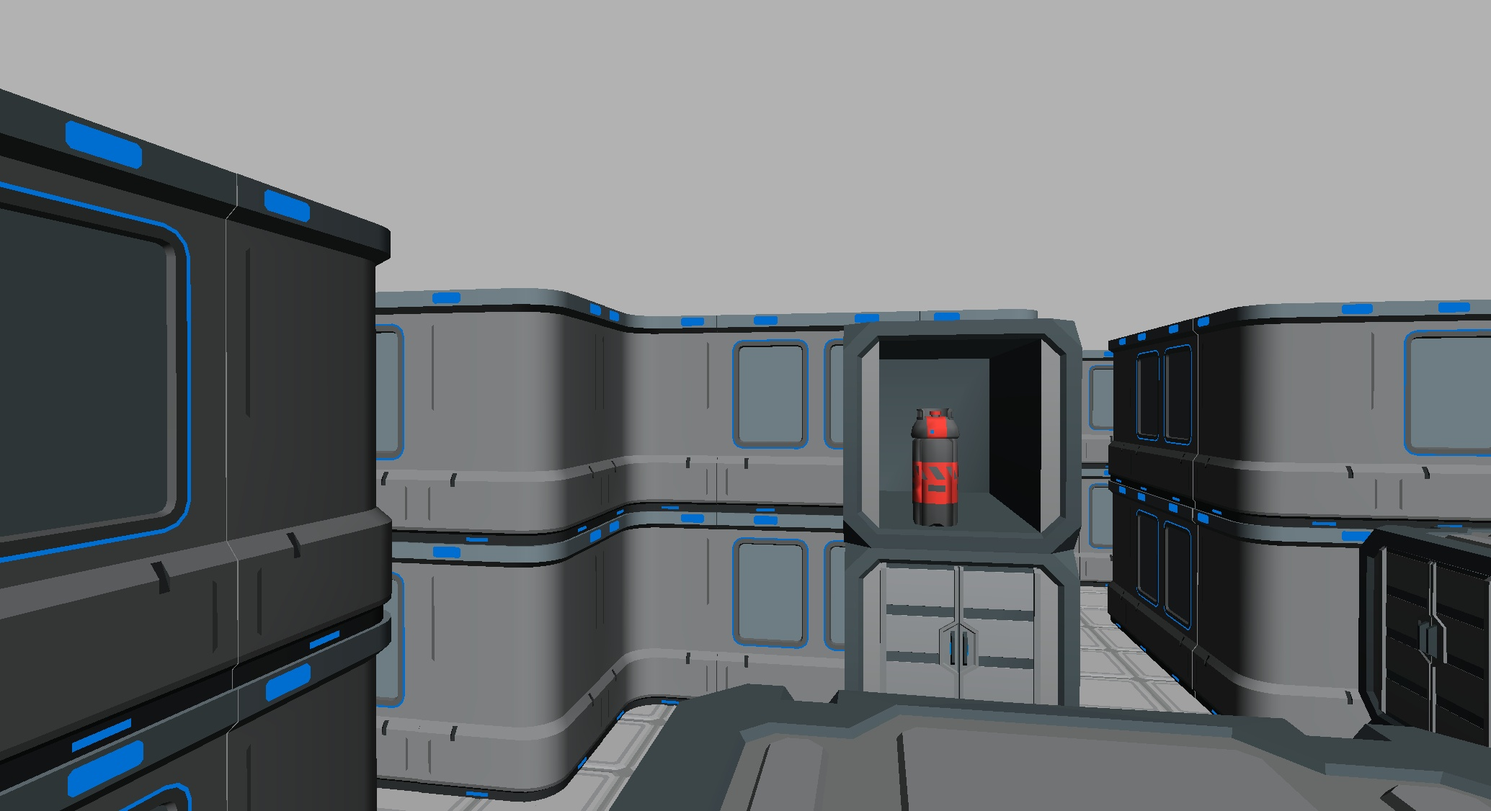red_barrel: (912, 408, 959, 526)
